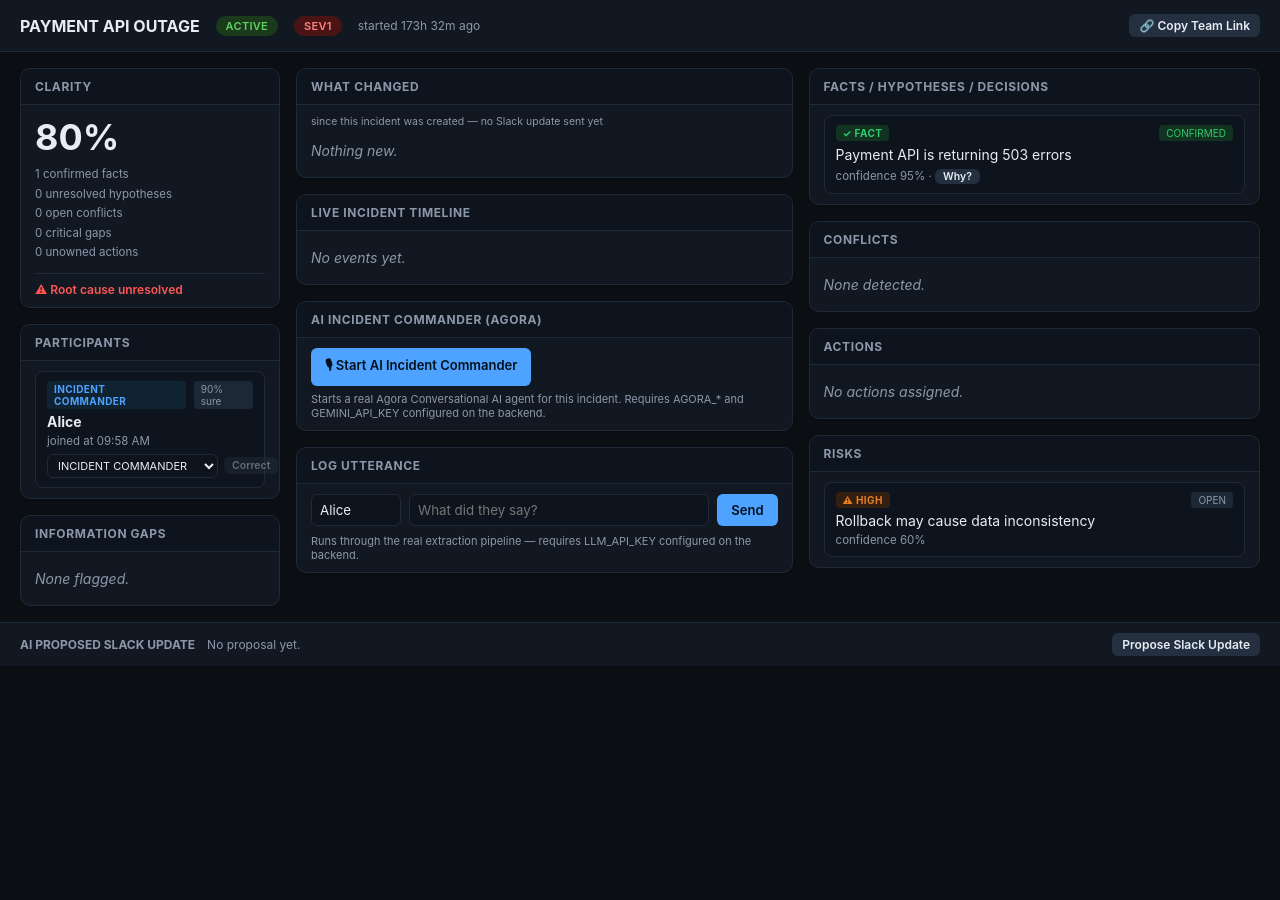
Test: Dashboard — end-to-end approval gate through the real UI › walks the full propose -> approve -> execute chain and ends with a real Slack result, not a fabricated one
The width and height of the screenshot is (1280, 900).
Expected: the text "Payment API is returning 503 errors" is shown, 836,146 -> 1072,163
Click the button "Propose Slack Update" at [1186, 644], box 1112,633 -> 1260,656
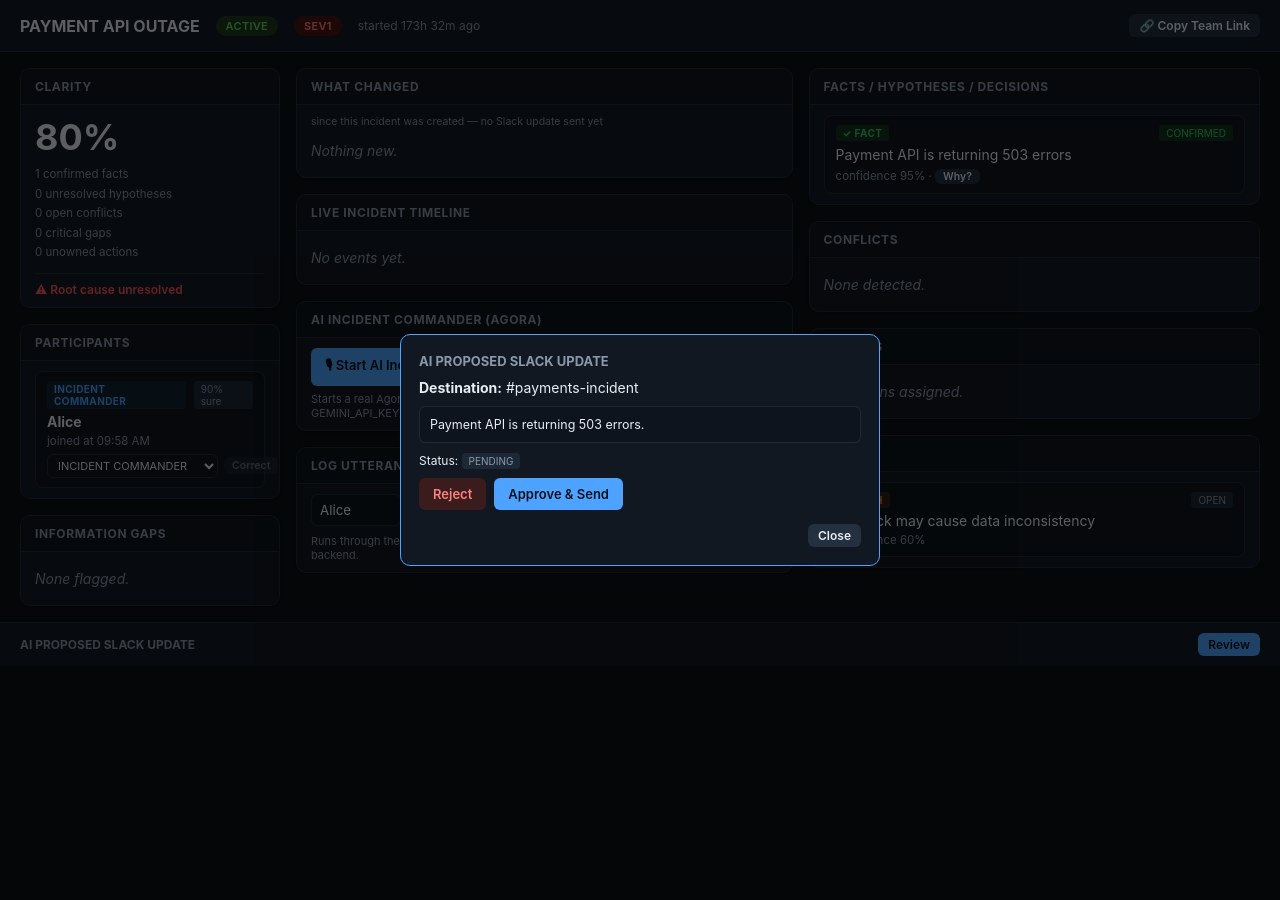
Result: the element with test id "approval-modal" shows "#payments-incident" at 506,379 -> 639,396
Result: the element with test id "approval-modal" shows "PENDING" at 469,455 -> 513,467
Click the button with test id "btn-approve" at [559, 494], box 494,478 -> 623,510
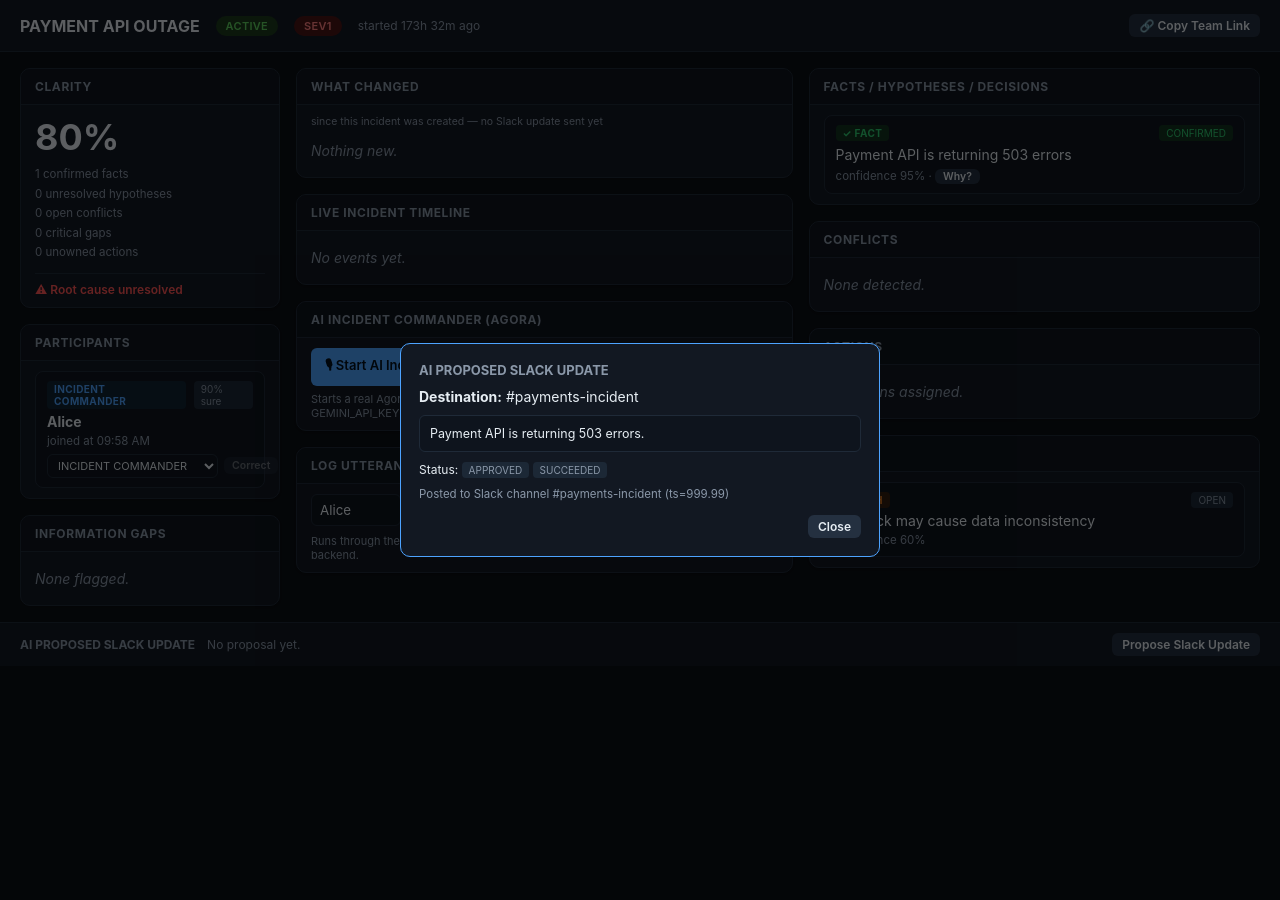
Result: the element with test id "approval-modal" shows "ts=999.99" at 419,487 -> 729,501
Result: the button with test id "btn-approve" is gone
